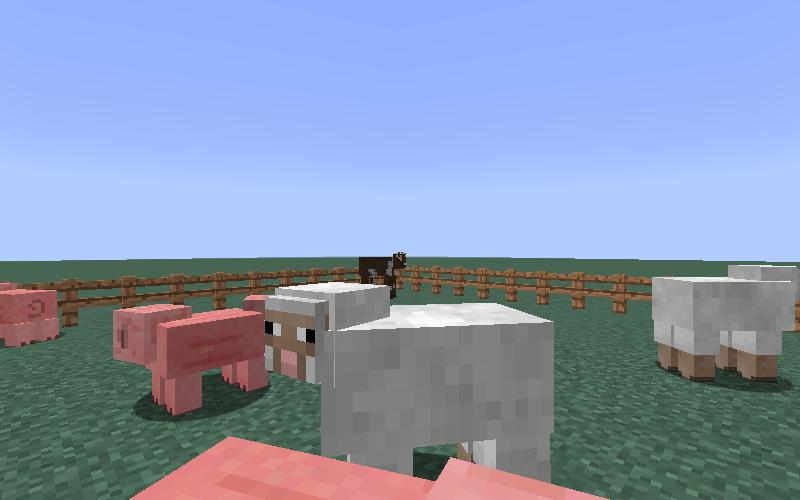cow: (360, 251, 407, 298)
pig: (110, 301, 272, 419), (1, 280, 61, 348)
sheep: (259, 283, 562, 487), (647, 258, 800, 397)
